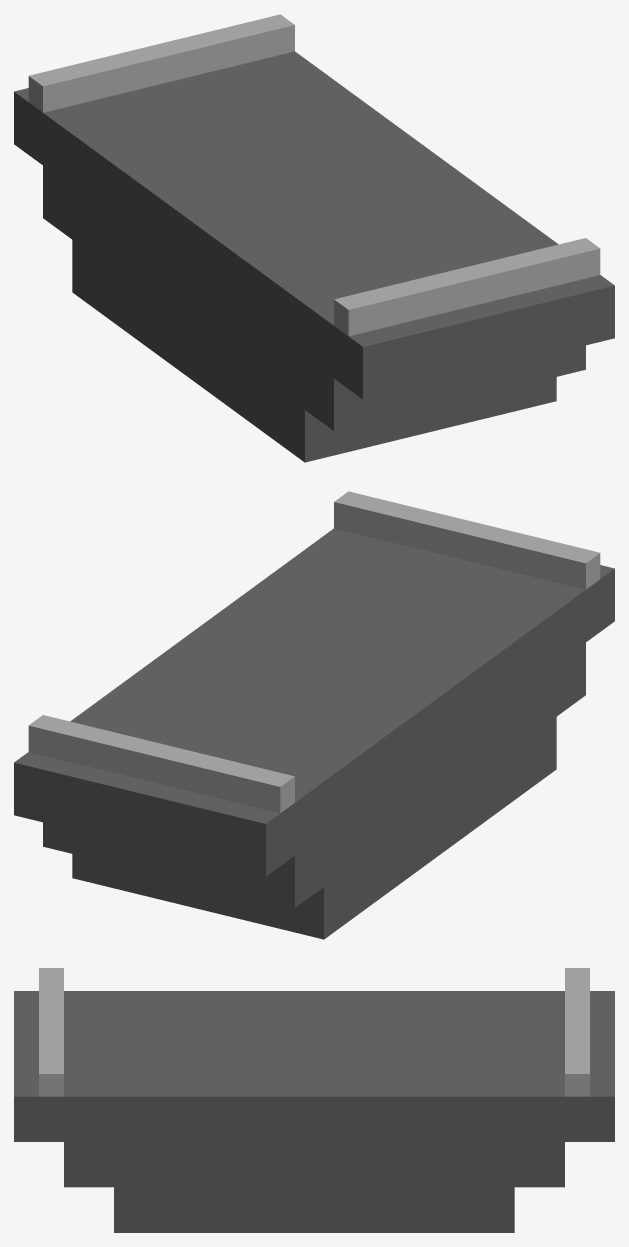
The model's file is ShipMiddle.obj.
The picture shows the model from 3 angles, top to bottom: view 1: azimuth 30°, elevation 25°; view 2: azimuth 150°, elevation 25°; view 3: azimuth 270°, elevation 25°; orthographic projection. The views are drawn at different scales.
Size of the model in its own units: 10 by 7 by 24.
1 material, 1 textured.
